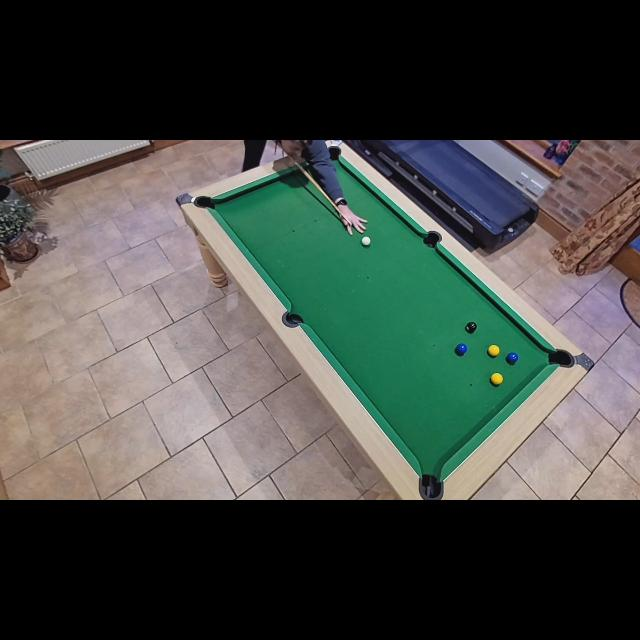Ball: (491, 373, 503, 385), (506, 352, 518, 364), (488, 345, 500, 357), (456, 343, 466, 355), (466, 322, 476, 332), (362, 237, 371, 246)
